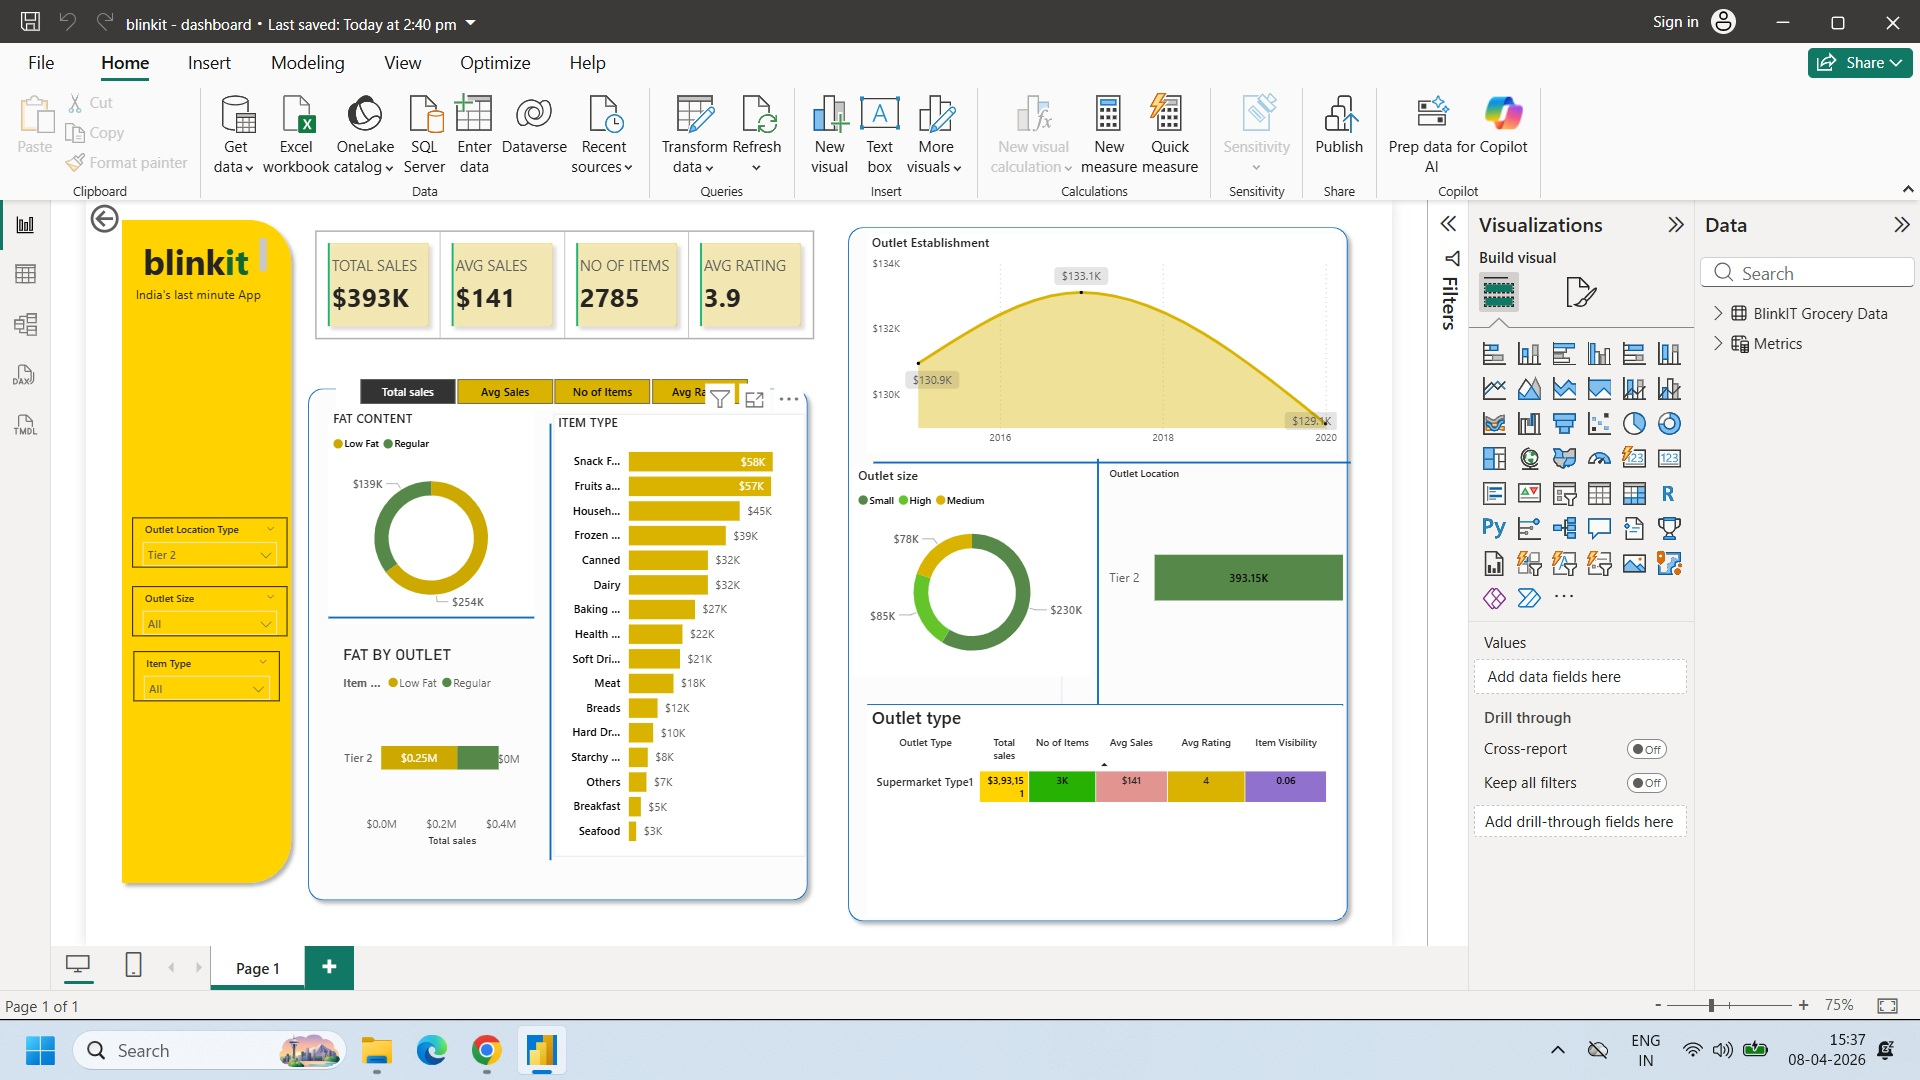

The dashboard page shown, as its layout file describes it:
{"tool":"powerbi","page":{"name":"Page 1","canvas":[1400,800],"ordinal":0},"visuals":[{"type":"shape","box":[30,12,199.6,729.4],"z":0},{"type":"textbox","box":[280.7,654.4,199.6,87.1],"z":1000},{"type":"textbox","box":[55.7,35.7,142.9,51.4],"z":2000},{"type":"textbox","box":[48.6,87.1,150,30],"z":3000},{"type":"cardVisual","fields":{"Data":["BlinkIT Grocery Data.Total sales","BlinkIT Grocery Data.Avg Sales","BlinkIT Grocery Data.No of Items","BlinkIT Grocery Data.Avg Rating"]},"box":[230,17.1,568.6,147.1],"z":4000},{"type":"shape","box":[229.2,193,553.6,567],"z":5000},{"type":"donutChart","title":"FAT CONTENT","fields":{"Y":["BlinkIT Grocery Data.Total sales"],"Category":["BlinkIT Grocery Data.Item Fat Content"]},"box":[259.6,225.1,220.6,229.6],"z":6000},{"type":"slicer","fields":{"Values":["Metrics.Metrics"]},"box":[268.7,184.6,465.3,40.5],"z":7000},{"type":"barChart","title":"FAT BY OUTLET","fields":{"Y":["BlinkIT Grocery Data.Total sales"],"Category":["BlinkIT Grocery Data.Outlet Location Type"],"Series":["BlinkIT Grocery Data.Item Fat Content"]},"box":[270.2,477.3,220.6,220.6],"z":8000},{"type":"shape","box":[1038.6,285.2,15,430.7],"z":9000},{"type":"shape","box":[259.6,441.3,220.6,13.5],"z":10000},{"type":"barChart","title":"ITEM TYPE","fields":{"Y":["BlinkIT Grocery Data.Total sales"],"Category":["BlinkIT Grocery Data.Item Type"]},"box":[501.3,229.6,270.2,474.3],"z":11000},{"type":"shape","box":[809,19.5,553.8,762.4],"z":12000},{"type":"lineChart","title":" Outlet Establishment ","fields":{"Category":["BlinkIT Grocery Data.Outlet Establishment Year"],"Y":["BlinkIT Grocery Data.Total sales"]},"box":[837.5,36,508.8,235.6],"z":13000},{"type":"shape","box":[837.8,534.9,510.7,13.4],"z":14000},{"type":"donutChart","title":"Outlet size","fields":{"Y":["BlinkIT Grocery Data.Total sales"],"Category":["BlinkIT Grocery Data.Outlet Size"]},"box":[823.1,285.5,254.7,225.2],"z":15000},{"type":"funnel","title":"Outlet Location","fields":{"Category":["BlinkIT Grocery Data.Outlet Location Type"],"Y":["Sum(BlinkIT Grocery Data.Sales)"]},"box":[1092.6,285.2,265.7,225.1],"z":16000},{"type":"shape","box":[490.3,239.6,15,468.3],"z":17000},{"type":"shape","box":[1077.6,277.7,15,430.7],"z":18000},{"type":"pivotTable","title":"Outlet type","fields":{"Rows":["BlinkIT Grocery Data.Outlet Type"],"Values":["BlinkIT Grocery Data.Total sales","BlinkIT Grocery Data.No of Items","BlinkIT Grocery Data.Avg Sales","BlinkIT Grocery Data.Avg Rating","Avg(BlinkIT Grocery Data.Item Visibility)"]},"box":[837.8,541.6,509.4,227.9],"z":19000},{"type":"actionButton","box":[0,0,100,40],"z":20000},{"type":"shape","box":[844.5,274.2,511.8,13.5],"z":21000},{"type":"slicer","fields":{"Values":["BlinkIT Grocery Data.Outlet Location Type"]},"box":[49.6,340.5,166.2,53.6],"z":22000},{"type":"slicer","fields":{"Values":["BlinkIT Grocery Data.Outlet Size"]},"box":[49.6,414.2,166.2,53.6],"z":23000},{"type":"slicer","fields":{"Values":["BlinkIT Grocery Data.Item Type"]},"box":[50.9,483.9,156.8,53.6],"z":24000}]}

Visuals, with their boxes on the page's 1400x800 design canvas (x1, y1, x2, y2). These are canvas units, not pixel positions in the 1920x1080 screenshot, which may show the page scaled, cropped or inside an application window:
shape: l=30, t=12, r=230, b=741
textbox: l=281, t=654, r=480, b=742
textbox: l=56, t=36, r=199, b=87
textbox: l=49, t=87, r=199, b=117
cardVisual - BlinkIT Grocery Data.Total sales x BlinkIT Grocery Data.Avg Sales: l=230, t=17, r=799, b=164
shape: l=229, t=193, r=783, b=760
"FAT CONTENT" donutChart: l=260, t=225, r=480, b=455
slicer - Metrics.Metrics: l=269, t=185, r=734, b=225
"FAT BY OUTLET" barChart: l=270, t=477, r=491, b=698
shape: l=1039, t=285, r=1054, b=716
shape: l=260, t=441, r=480, b=455
"ITEM TYPE" barChart: l=501, t=230, r=772, b=704
shape: l=809, t=20, r=1363, b=782
" Outlet Establishment " lineChart: l=838, t=36, r=1346, b=272
shape: l=838, t=535, r=1348, b=548
"Outlet size" donutChart: l=823, t=286, r=1078, b=511
"Outlet Location" funnel: l=1093, t=285, r=1358, b=510
shape: l=490, t=240, r=505, b=708
shape: l=1078, t=278, r=1093, b=708
"Outlet type" pivotTable: l=838, t=542, r=1347, b=770
actionButton: l=0, t=0, r=100, b=40
shape: l=844, t=274, r=1356, b=288
slicer - BlinkIT Grocery Data.Outlet Location Type: l=50, t=340, r=216, b=394
slicer - BlinkIT Grocery Data.Outlet Size: l=50, t=414, r=216, b=468
slicer - BlinkIT Grocery Data.Item Type: l=51, t=484, r=208, b=538
